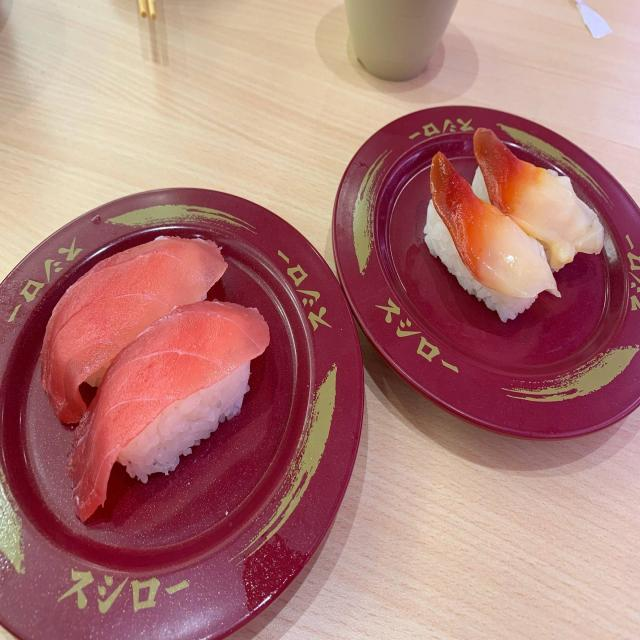janred: (4, 206, 364, 611), (302, 92, 640, 415)
